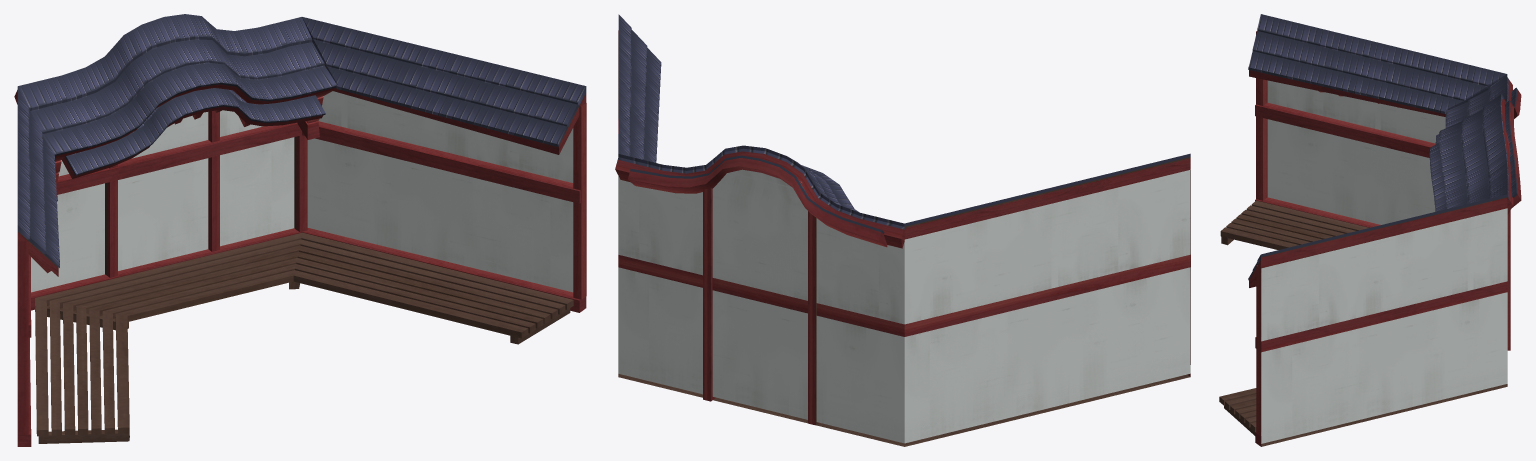
File: VIPWall01_Art.glb
3 views of the same model, side by side, from view 1: azimuth 30°, elevation 25°; view 2: azimuth 150°, elevation 25°; view 3: azimuth 270°, elevation 25° (orthographic). The views are drawn at different scales.
Visible parts, largest first — view 1: VIPWall01_Art; view 2: VIPWall01_Art; view 3: VIPWall01_Art.
Part boxes in pixels (bbox=[...]): VIPWall01_Art: bbox=[14, 14, 586, 446]; VIPWall01_Art: bbox=[615, 14, 1190, 446]; VIPWall01_Art: bbox=[1219, 14, 1521, 446].
Bounding box in the file's own units: 28.09 × 12.25 × 14.91.
1 material, 1 textured.
